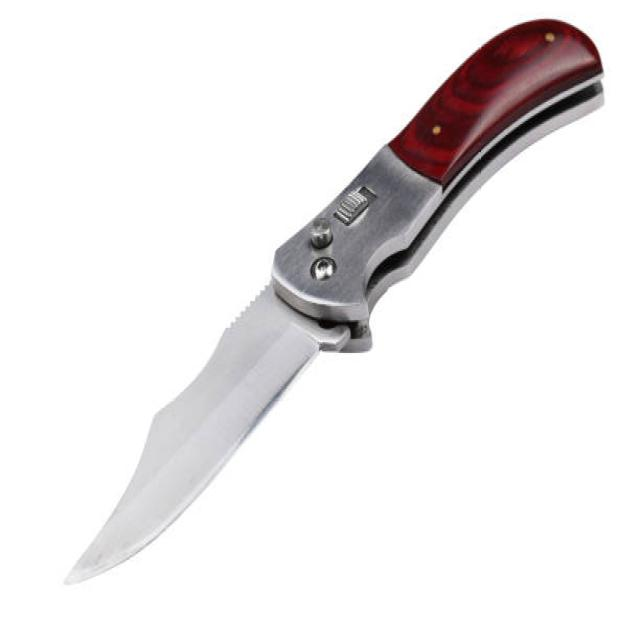knife: (60, 9, 613, 593)
